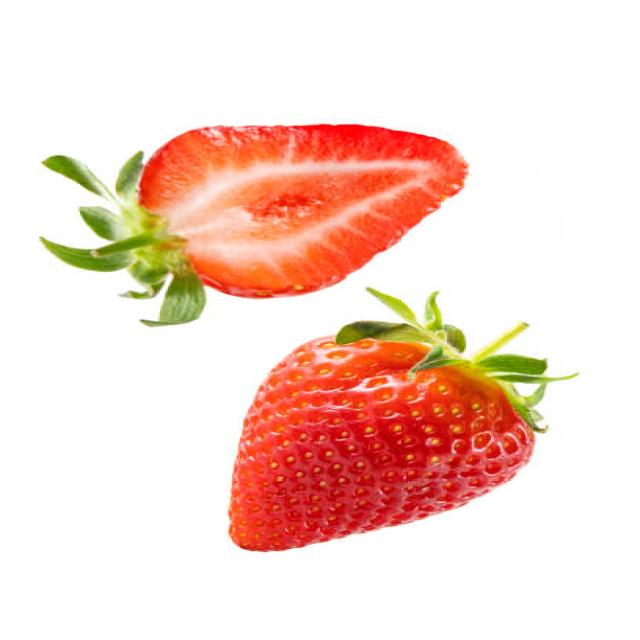Healthy Fruit: (225, 337, 535, 555)
